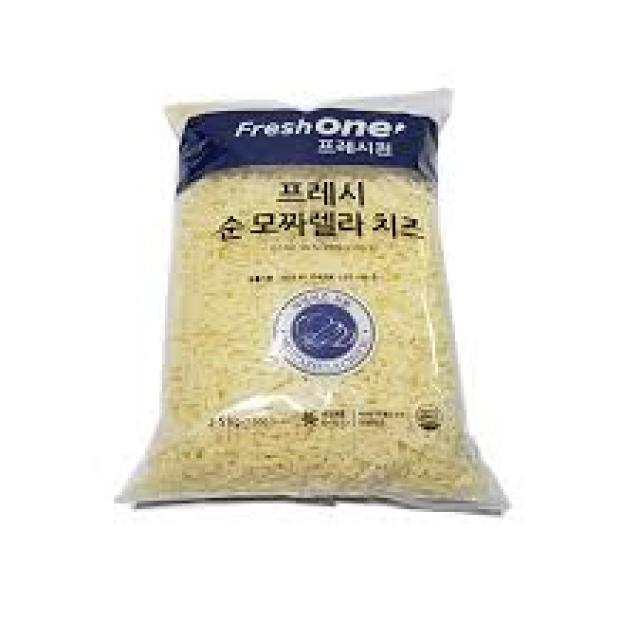cheese: (165, 86, 452, 507)
